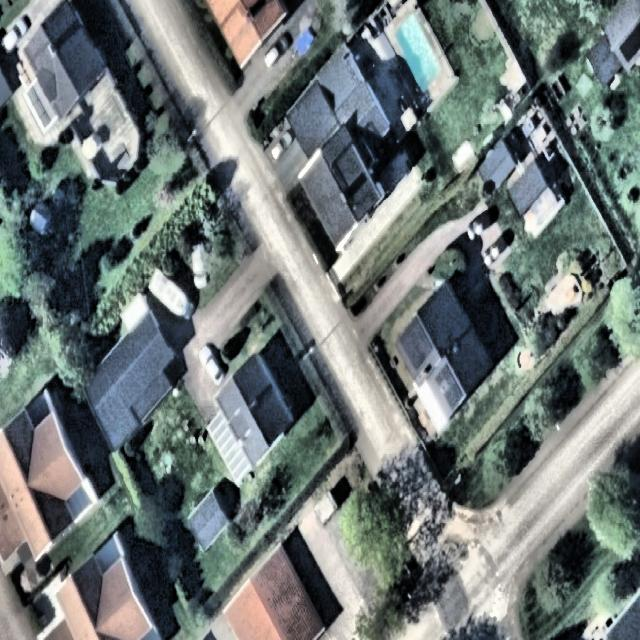roof_pv: (401, 314, 434, 372), (444, 381, 465, 415), (433, 362, 458, 383)
